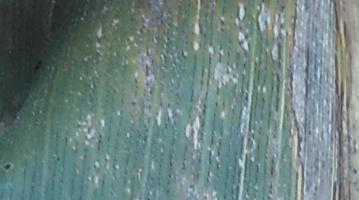tarspot: (217, 15, 226, 33), (2, 162, 13, 172), (33, 60, 43, 71), (94, 33, 103, 45), (143, 62, 149, 79), (129, 100, 138, 109), (279, 4, 286, 13), (351, 167, 358, 175), (55, 155, 61, 163), (138, 27, 143, 35), (284, 29, 289, 37), (279, 22, 284, 29), (145, 196, 153, 200)
